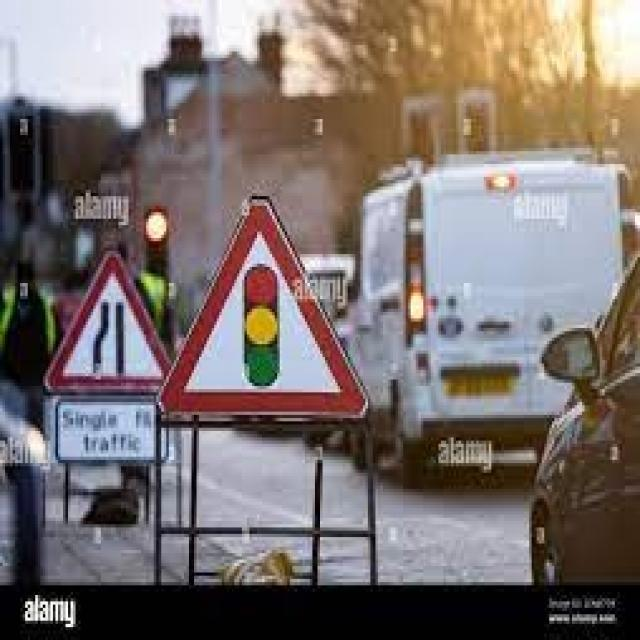light_traffic: (157, 196, 368, 422)
